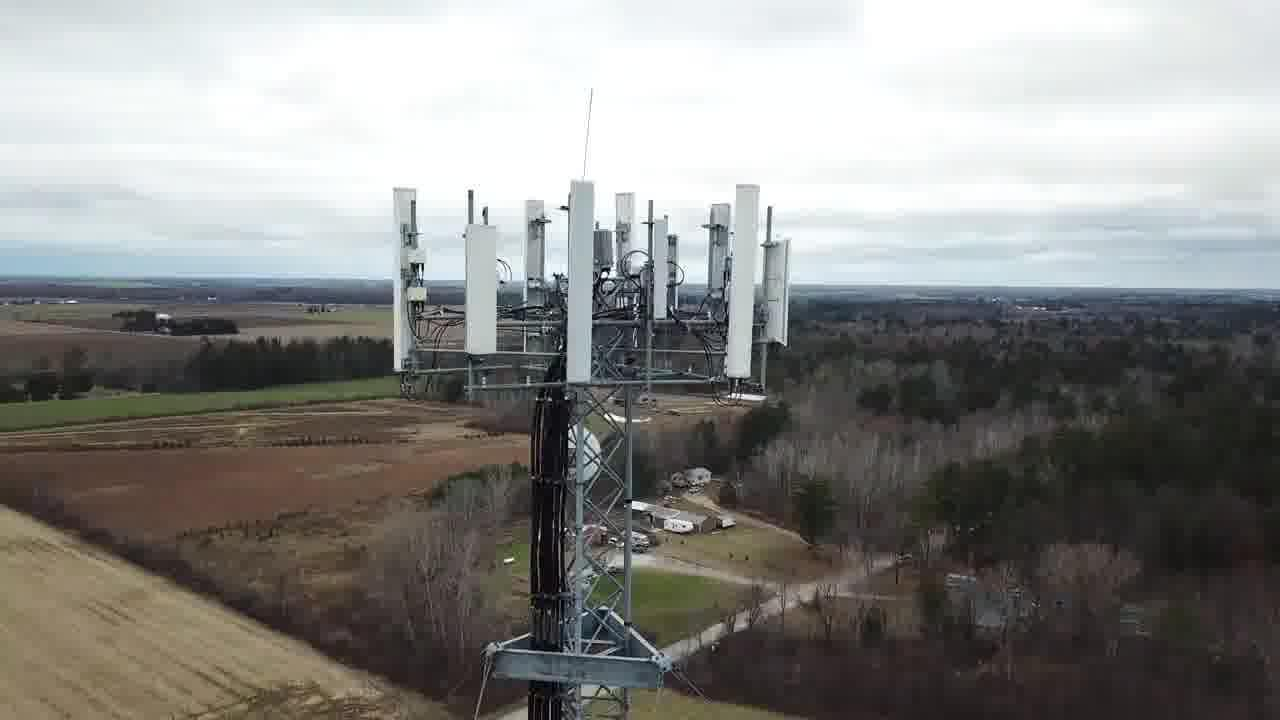Microwave Antenna: (563, 417, 604, 498)
antenna: (383, 175, 438, 380), (720, 180, 763, 380), (456, 221, 512, 359), (566, 172, 598, 382), (517, 189, 556, 315), (644, 208, 677, 320), (610, 185, 641, 298)
